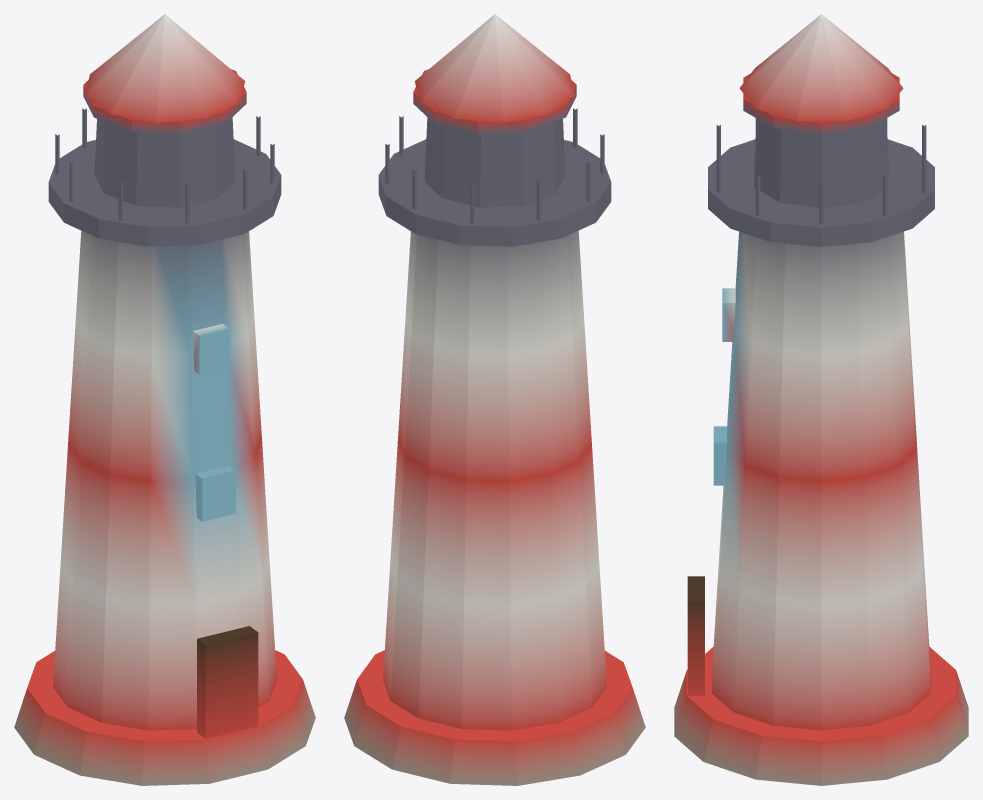
Rendered from lighthouse_0.glb.
The picture shows the model from 3 angles, left to right: view 1: azimuth 30°, elevation 25°; view 2: azimuth 150°, elevation 25°; view 3: azimuth 270°, elevation 25°; orthographic projection.
Parts seen in each view (by area): view 1: Lighthouse; view 2: Lighthouse; view 3: Lighthouse.
Part boxes in pixels (x1,y1,x2,y2): Lighthouse: (14,14,315,785); Lighthouse: (344,14,645,785); Lighthouse: (674,14,968,785).
Size of the model in its own units: 3.5 by 9.05 by 3.41.
